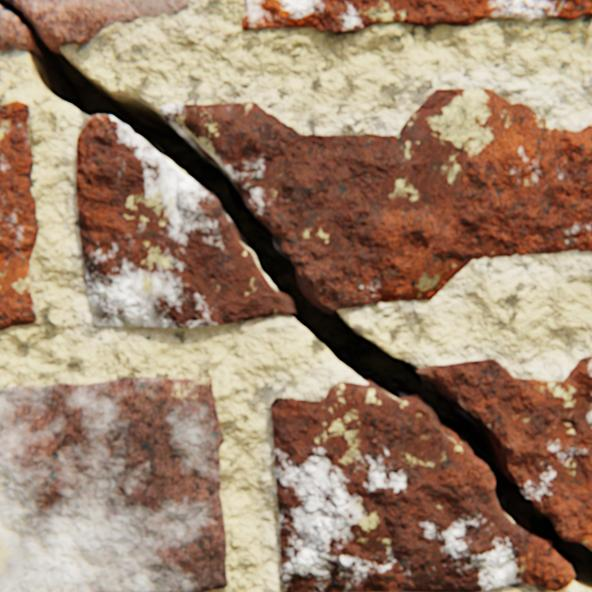brick: (0, 377, 227, 591), (242, 0, 591, 34), (0, 102, 40, 330)
broken_brick: (161, 90, 591, 310), (271, 382, 573, 591), (78, 115, 294, 327), (416, 356, 591, 548), (6, 0, 189, 49), (0, 5, 35, 51)
crack: (0, 0, 591, 591)
